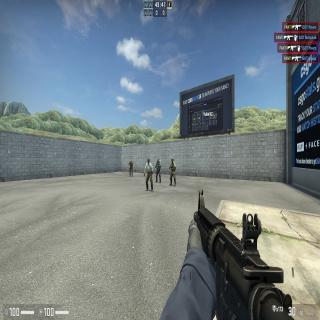CT-Body: (169, 158, 176, 185), (156, 158, 160, 182)
CT-Head: (171, 157, 174, 163), (157, 158, 159, 163)
T-Body: (144, 159, 152, 192), (130, 160, 132, 176)
T-Head: (148, 159, 150, 164), (130, 160, 132, 162)
